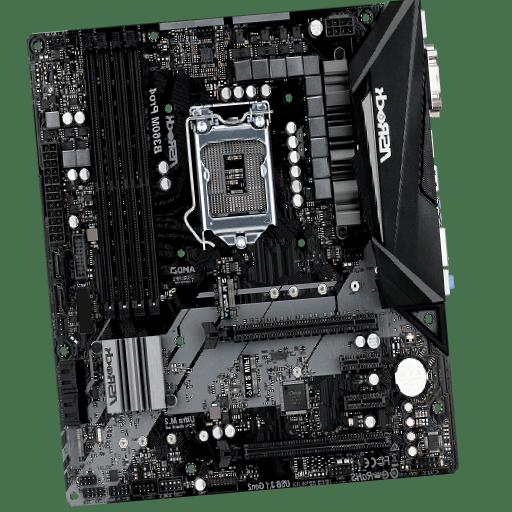CPU: (190, 100, 276, 247)
GPU: (201, 311, 378, 351), (217, 430, 392, 468)
MOTHERBOARD: (25, 3, 460, 509)
RAM: (80, 29, 161, 320)
SSD: (239, 355, 261, 398), (215, 277, 236, 319)
